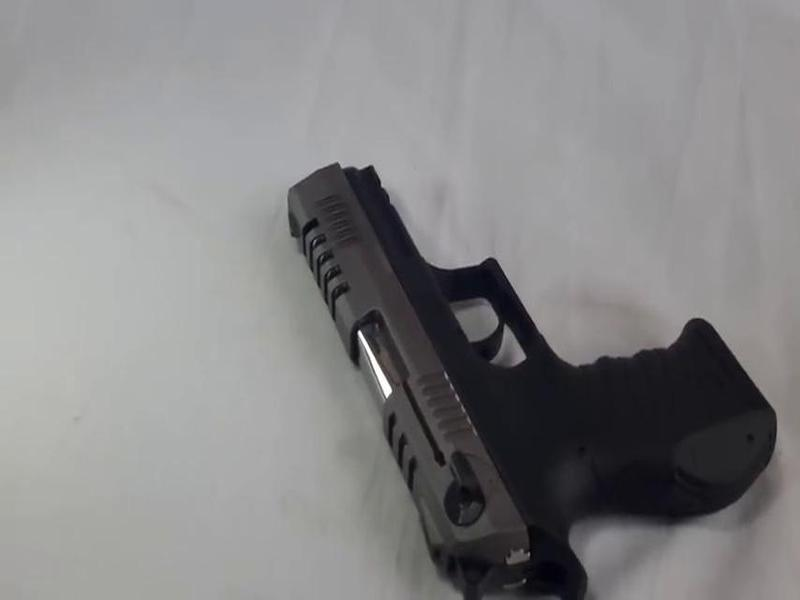Pistola: (279, 141, 782, 599)
